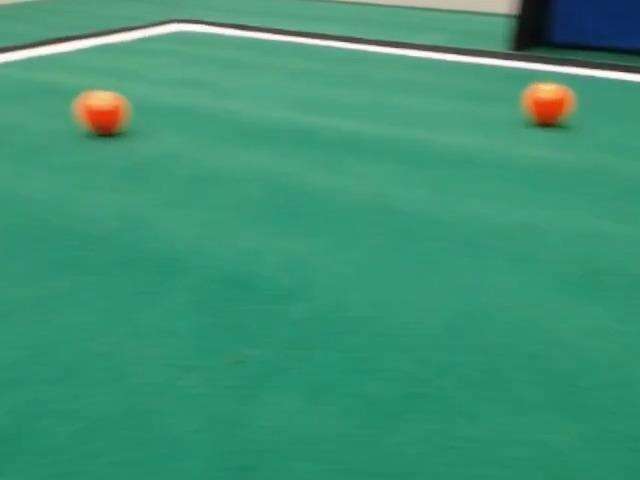Ball: (72, 90, 130, 135), (521, 82, 575, 126)
